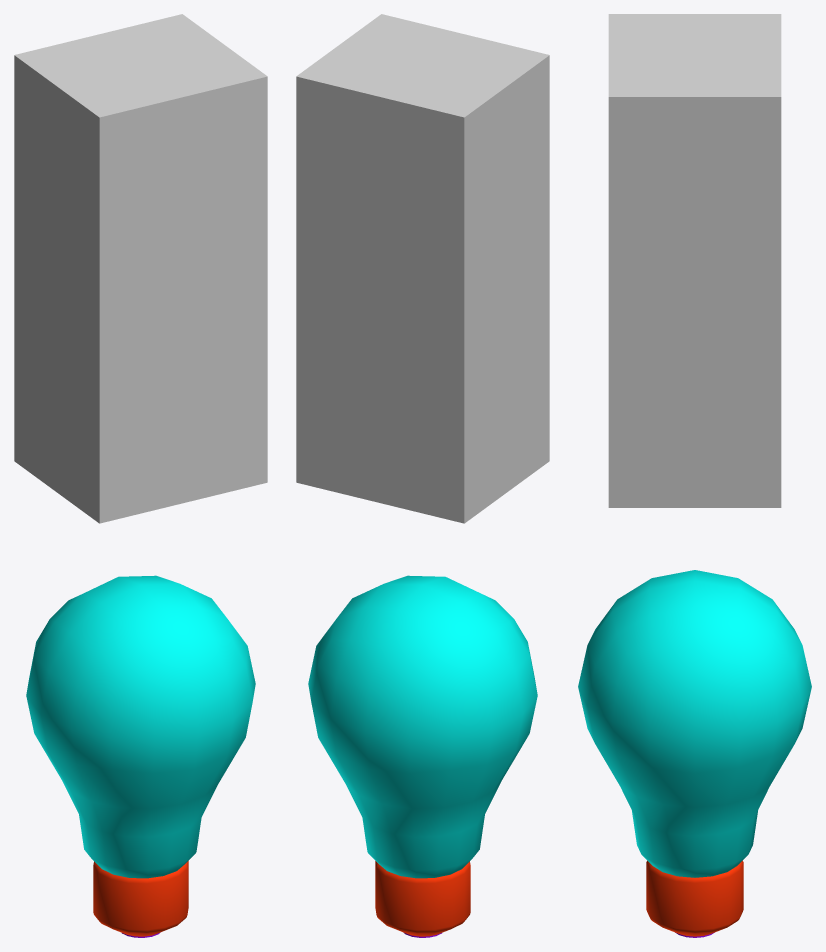
Rendered from Low_Poly_Light_Bulb.fbx.
3 views of the same model, side by side, from view 1: azimuth 30°, elevation 25°; view 2: azimuth 150°, elevation 25°; view 3: azimuth 270°, elevation 25° (orthographic).
Visible parts, largest first — view 1: Cube, #LMP0003_Light_Bulb_Low_Poly; view 2: Cube, #LMP0003_Light_Bulb_Low_Poly; view 3: Cube, #LMP0003_Light_Bulb_Low_Poly.
Boxes of the visible parts, <box> form: Cube: <box>14,14,267,523</box>; #LMP0003_Light_Bulb_Low_Poly: <box>26,575,255,937</box>; Cube: <box>296,14,549,523</box>; #LMP0003_Light_Bulb_Low_Poly: <box>308,575,537,937</box>; Cube: <box>608,14,781,507</box>; #LMP0003_Light_Bulb_Low_Poly: <box>578,570,811,937</box>.
Bounding box in the file's own units: 7.53 × 31.21 × 7.53.
